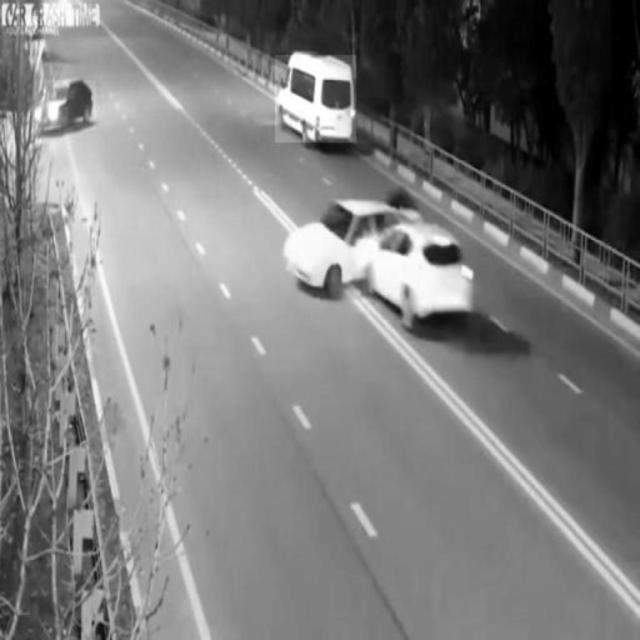accident: (282, 200, 476, 322)
vehicle: (275, 55, 356, 143), (35, 80, 96, 130)
